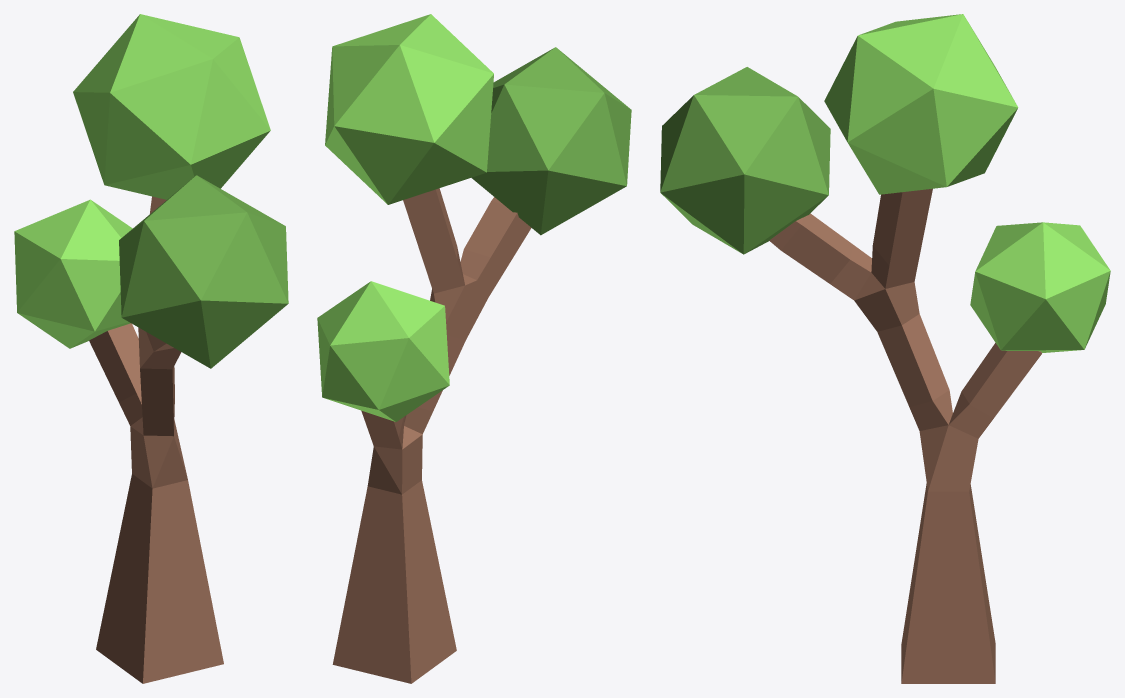
Rendered from Tree.fbx.
The picture shows the model from 3 angles, left to right: view 1: azimuth 30°, elevation 25°; view 2: azimuth 150°, elevation 25°; view 3: azimuth 270°, elevation 25°; orthographic projection. The views are drawn at different scales.
Parts seen in each view (by area): view 1: Cube, Icosphere, Icosphere.001, Icosphere.002; view 2: Cube, Icosphere, Icosphere.001, Icosphere.002; view 3: Cube, Icosphere, Icosphere.001, Icosphere.002.
Part boxes in pixels (x1,y1,x2,y2): Cube: (89,196,223,683); Icosphere: (73,14,270,199); Icosphere.001: (119,175,288,368); Icosphere.002: (14,199,132,348); Cube: (332,188,531,683); Icosphere: (325,14,493,204); Icosphere.001: (471,47,631,235); Icosphere.002: (317,281,449,421); Cube: (769,188,1041,683); Icosphere: (824,14,1018,194); Icosphere.001: (660,67,830,254); Icosphere.002: (970,222,1110,352).
Bounding box in the file's own units: 190 × 549 × 348.
